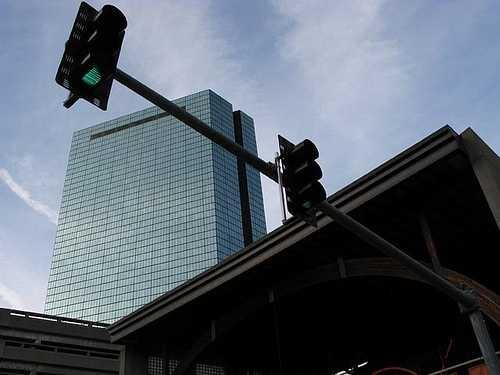green: (52, 2, 130, 110), (279, 134, 328, 228)
